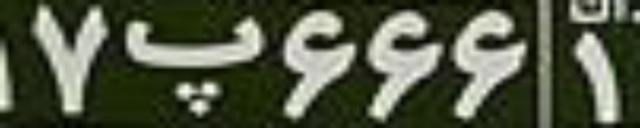1: (565, 30, 621, 125)
6: (448, 11, 528, 123), (365, 12, 438, 124), (280, 9, 350, 120)
7: (29, 1, 110, 116)
pe: (122, 14, 264, 122)
